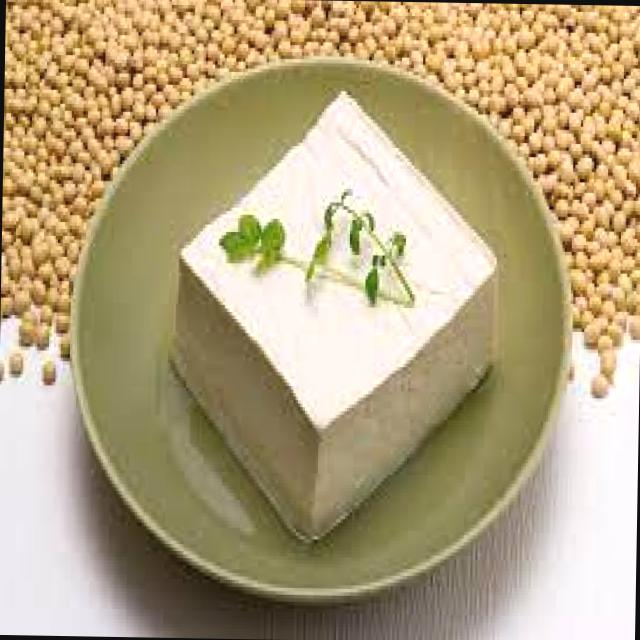tofu: (154, 90, 525, 568)
